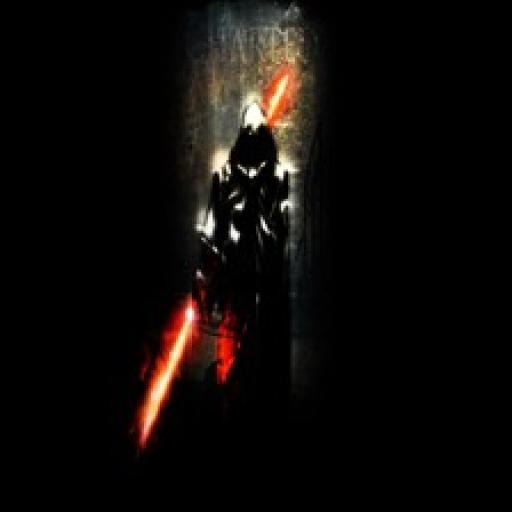lightsaber: (131, 291, 209, 448)
